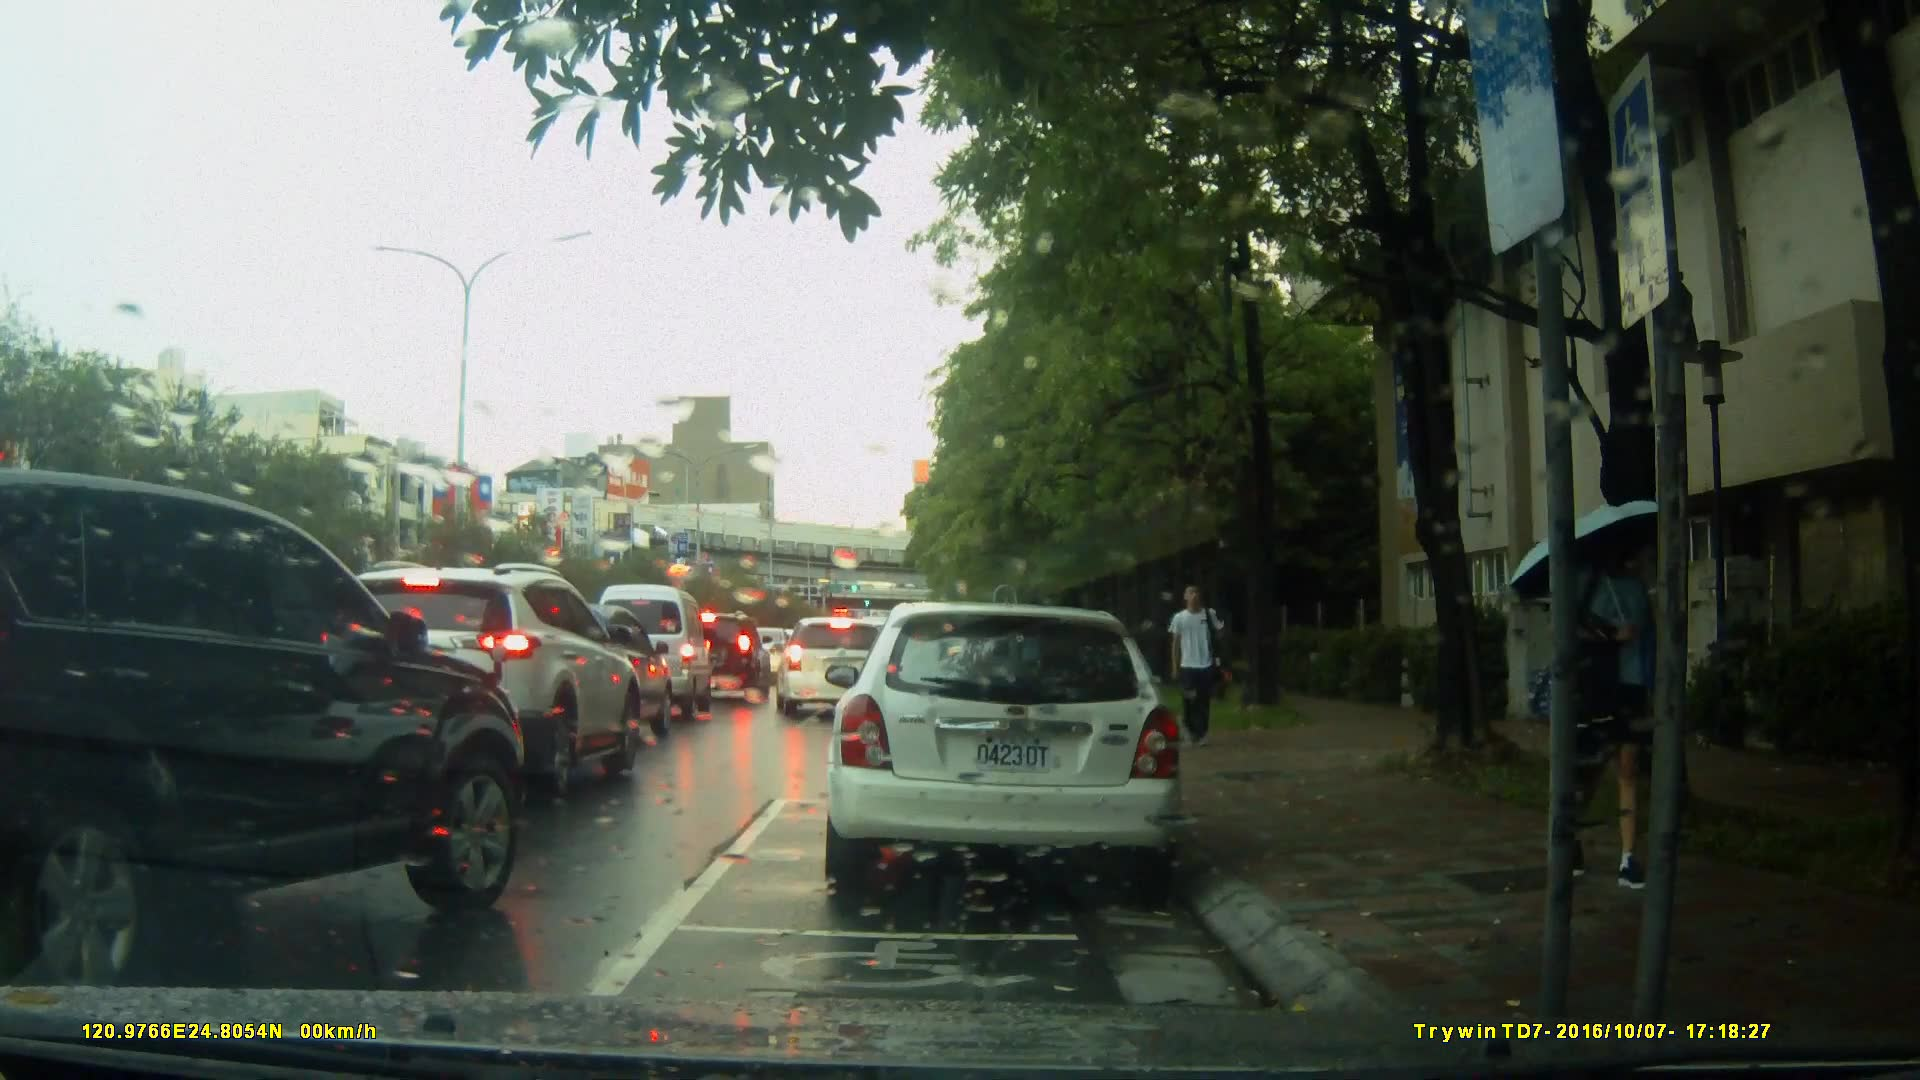pedestrian: (1523, 493, 1693, 928), (1156, 576, 1234, 758)
vehicle: (1, 465, 530, 987), (820, 602, 1188, 898), (312, 561, 649, 794), (501, 603, 679, 744), (587, 583, 714, 725), (773, 616, 902, 719), (676, 611, 771, 701)
